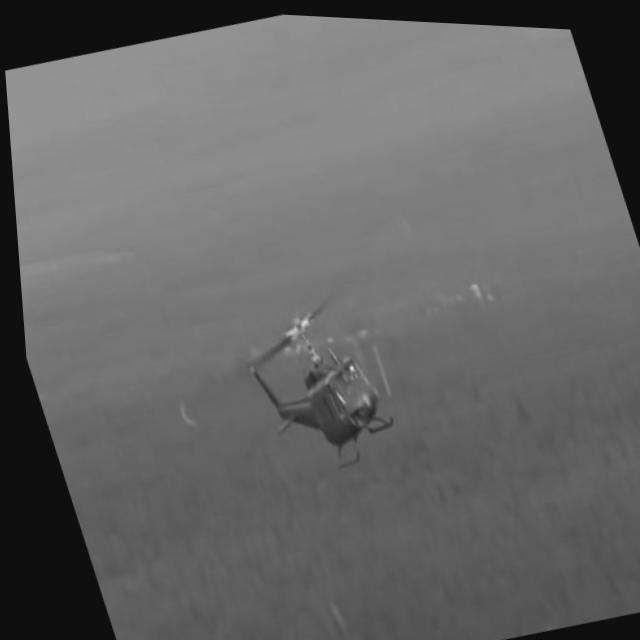helikopter: (207, 282, 412, 486)
